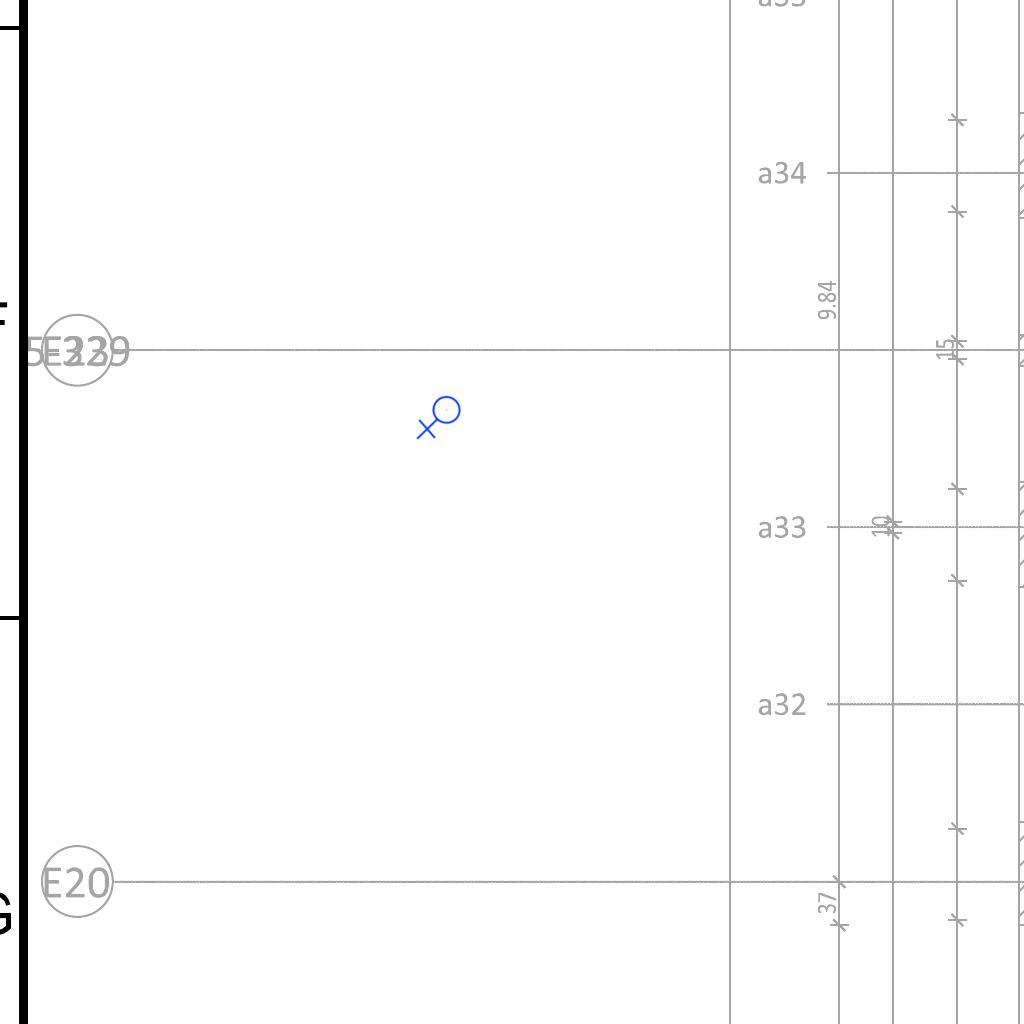Elektroanschluss_allgemein_230V_Geraeteanschlussdose_230V: (416, 395, 465, 442)
